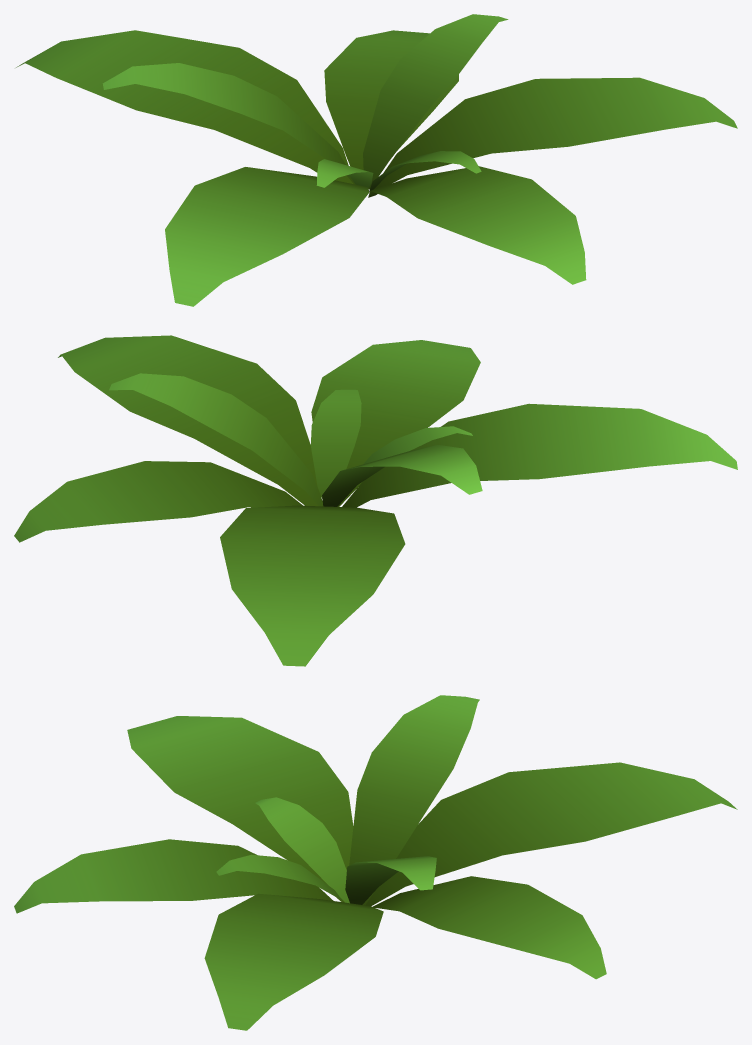
The model's file is plant3.fbx.
The picture shows the model from 3 angles, top to bottom: view 1: azimuth 30°, elevation 25°; view 2: azimuth 150°, elevation 25°; view 3: azimuth 270°, elevation 25°; orthographic projection. The views are drawn at different scales.
Parts seen in each view (by area): view 1: plant3; view 2: plant3; view 3: plant3.
Part boxes in pixels (x1,y1,x2,y2): plant3: (16,14,737,306); plant3: (14,335,737,666); plant3: (14,695,737,1030).
Bounding box in the file's own units: 40.92 × 7.92 × 41.89.
